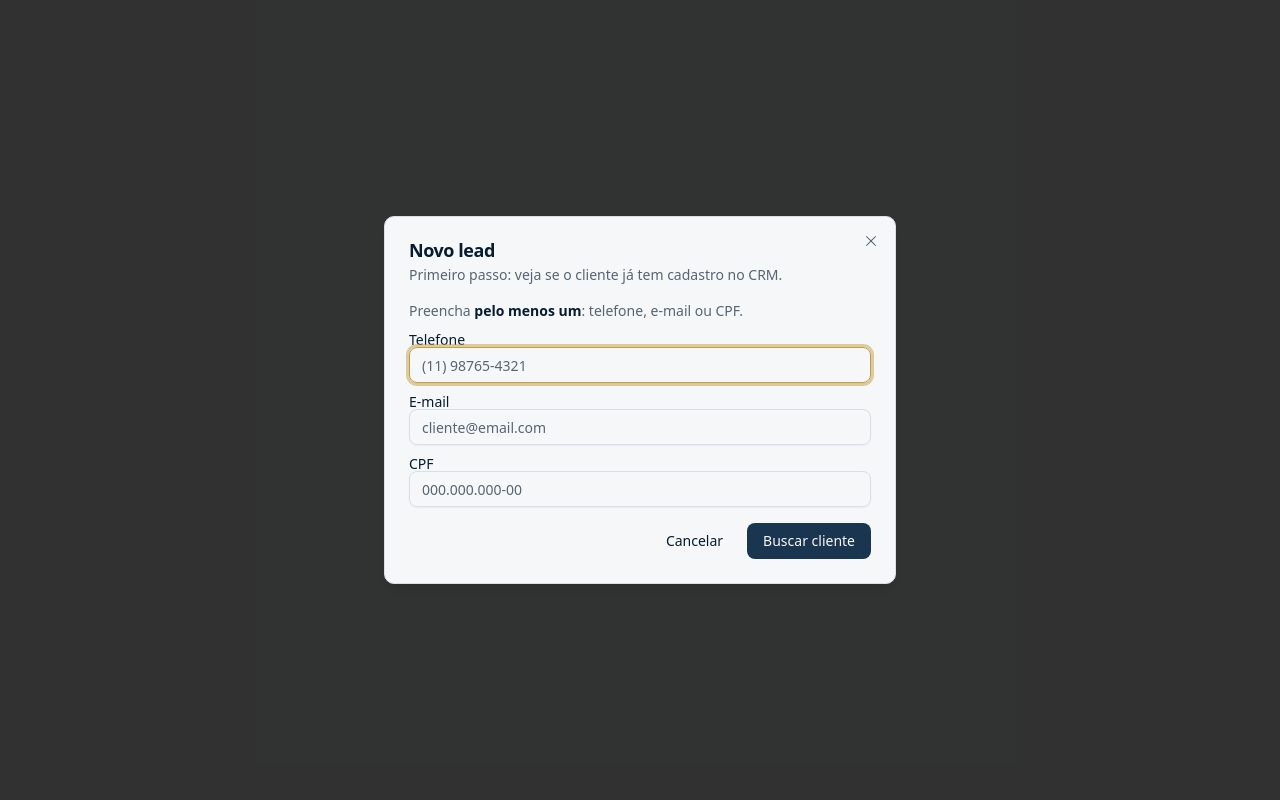
Scenario: Novo lead do corretor: a busca vem primeiro › já é do corretor: aponta o lead
Type "carla@exemplo.com" into the field labelled "E-mail".
click(640, 427); type("carla@exemplo.com")  # box x1=409 y1=409 x2=871 y2=445
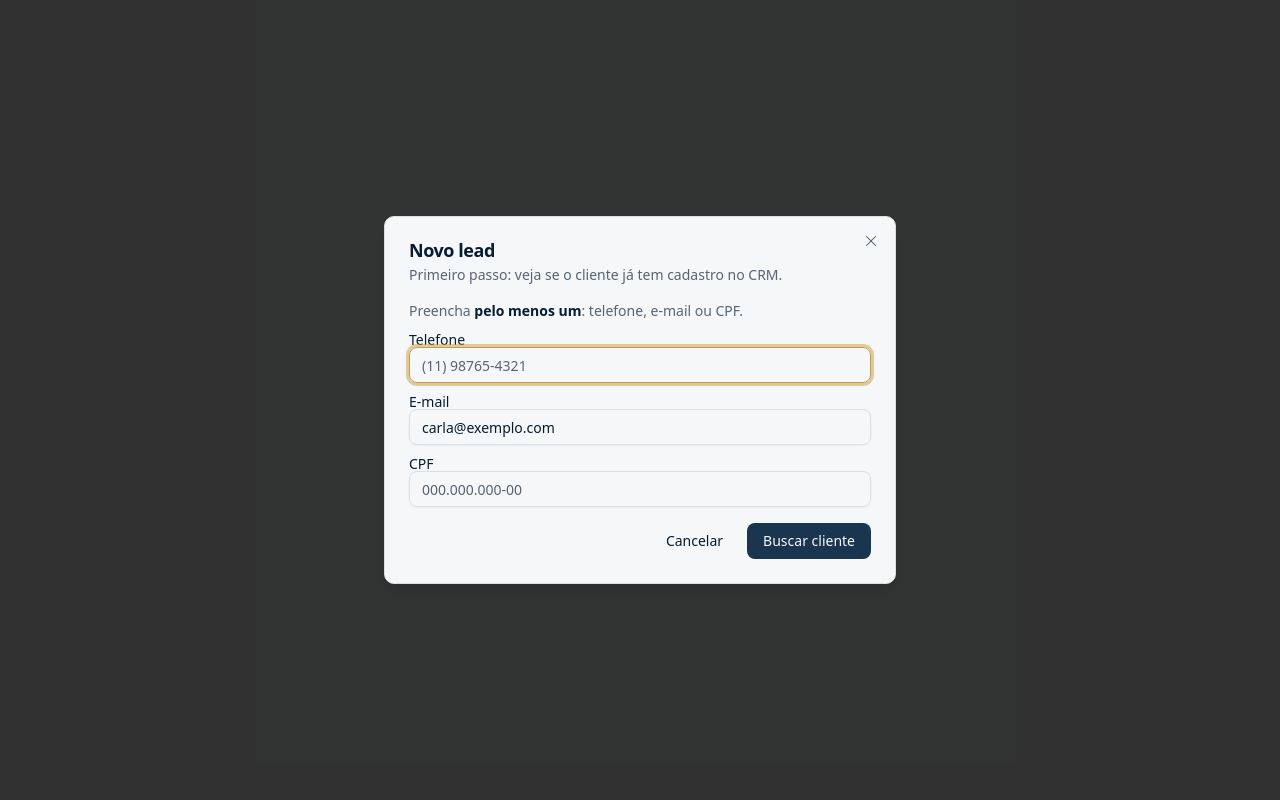
Click the button "Buscar cliente".
click(809, 541)  # box x1=747 y1=523 x2=871 y2=559
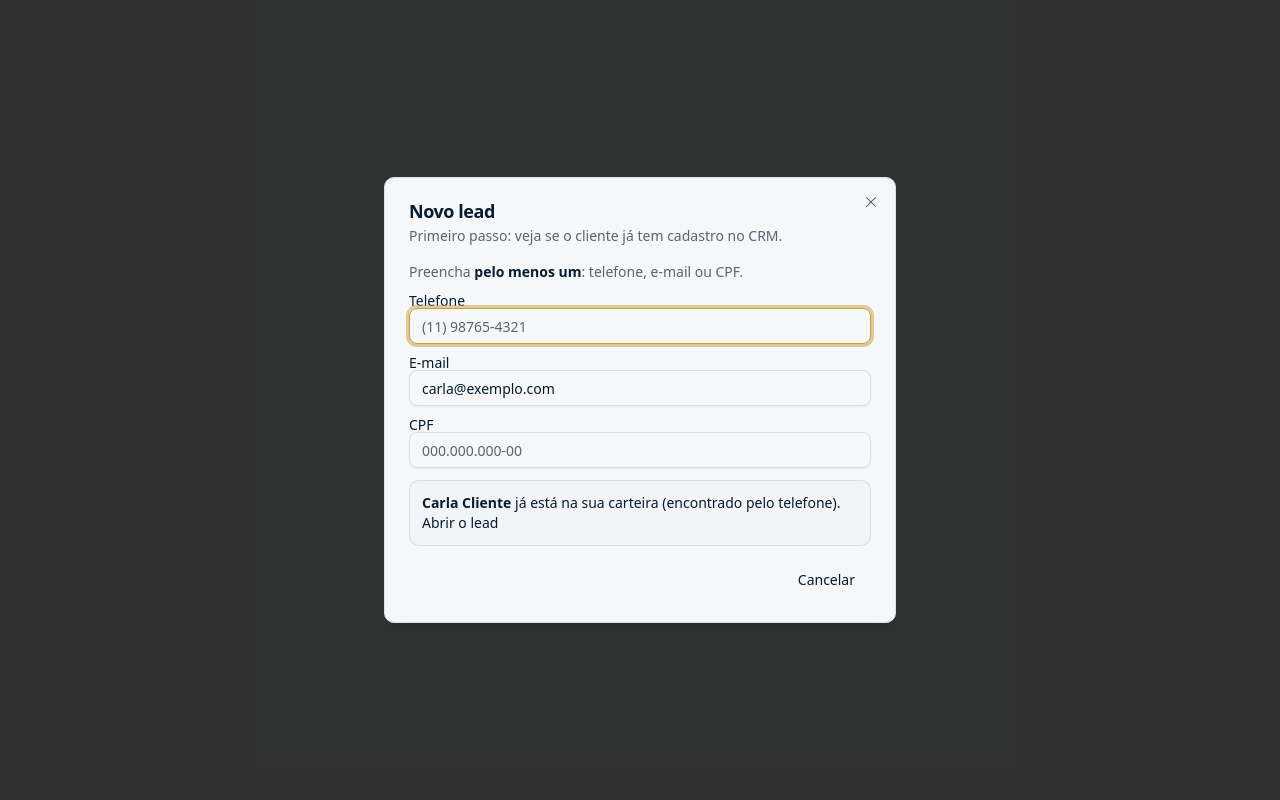
expect the element with test id "oportunidade-ja-sua" shows "já está na sua carteira": met, box x1=511 y1=493 x2=742 y2=512
